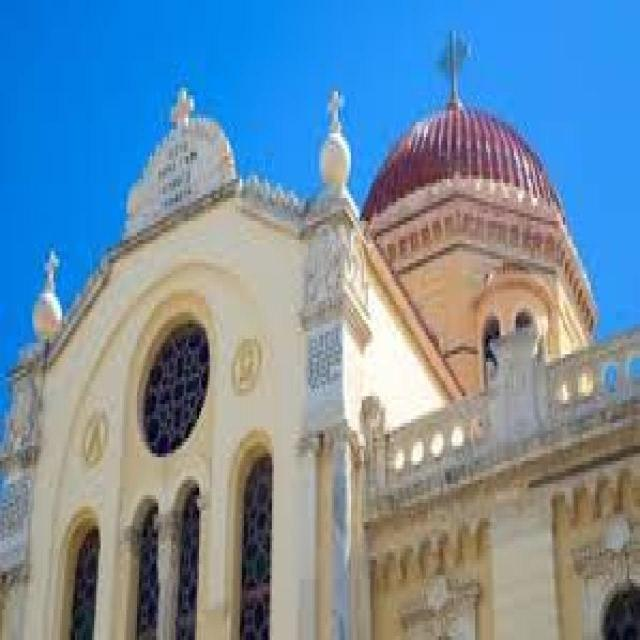Agios Minas: (1, 31, 640, 640)
